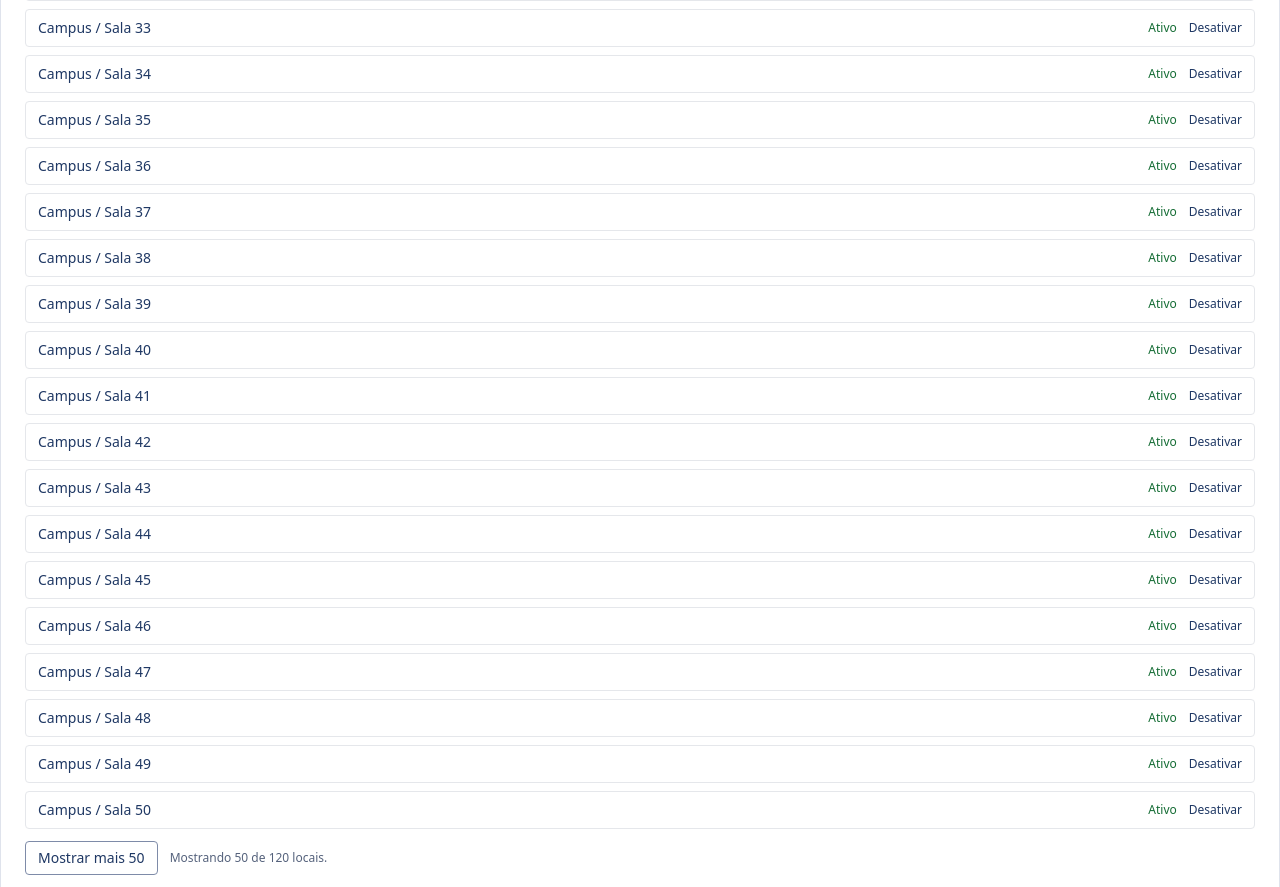
Test case: Lista longa de locais › mudar o filtro volta a mostrar só o começo
(page scrolled)
Check: the text "Mostrando 50 de 120 locais." is shown, box [170,850,327,866]
Click the button "Mostrar mais 50". click: (91, 858)
box: [25,841,158,875]
(page scrolled)
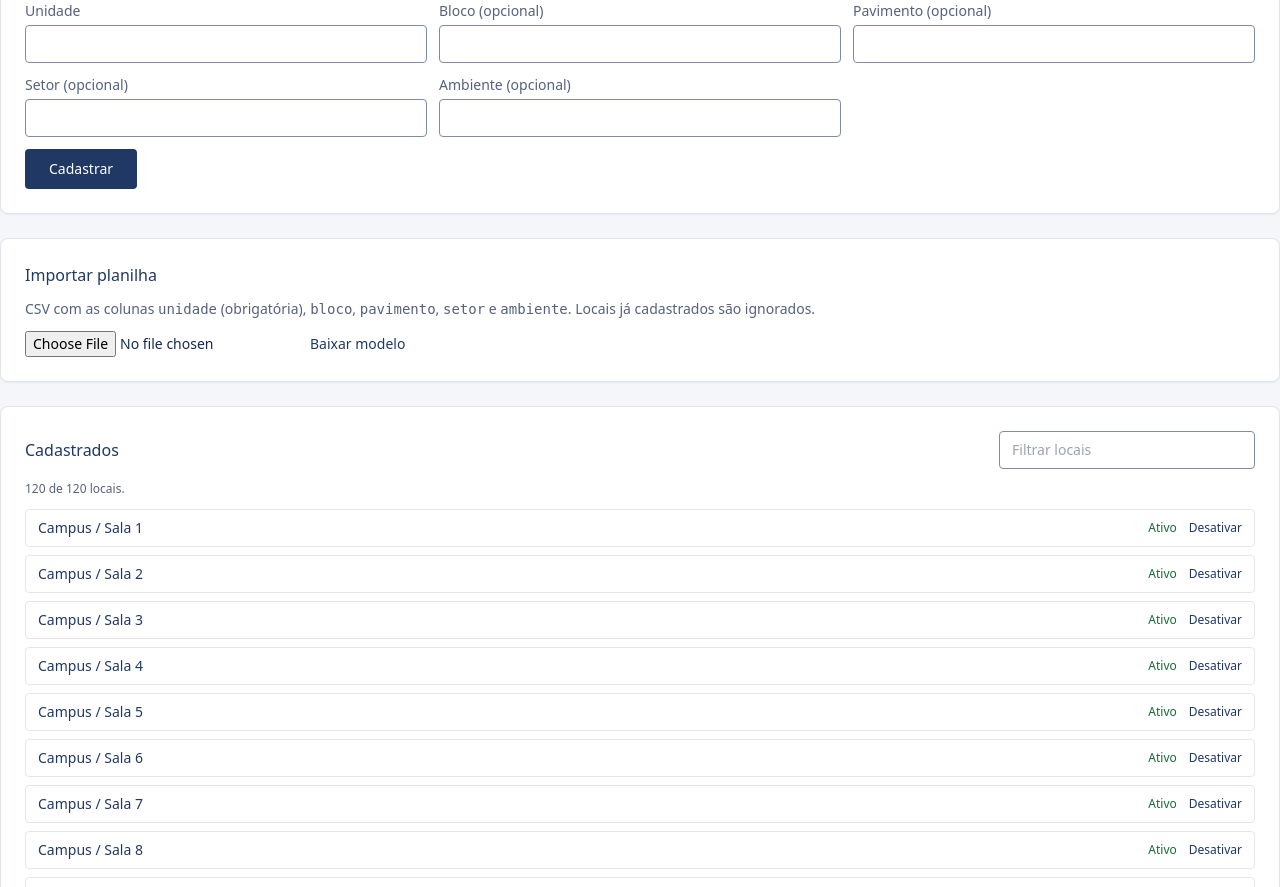
Check: the text "Campus / Sala 1" is shown 100 times
# "Campus" casa com os 120: se o filtro não voltasse ao começo, continuariam os 100 já liberados.
Type "Campus" into the search field with placeholder "Filtrar locais". click: (1127, 450)
box: [999,431,1255,469]
(page scrolled)
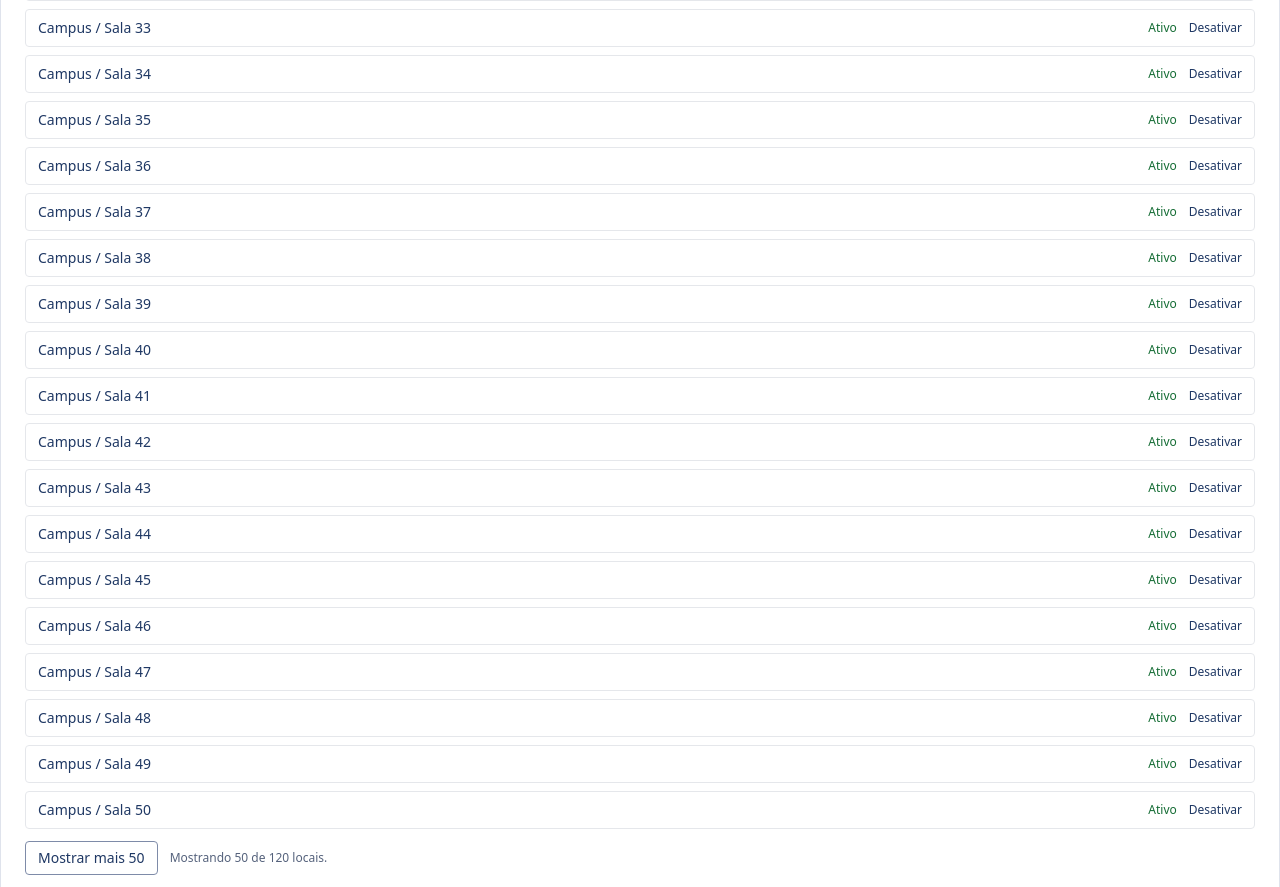
Check: the text "Mostrando 50 de 120 locais." is shown, box [170,850,327,866]
